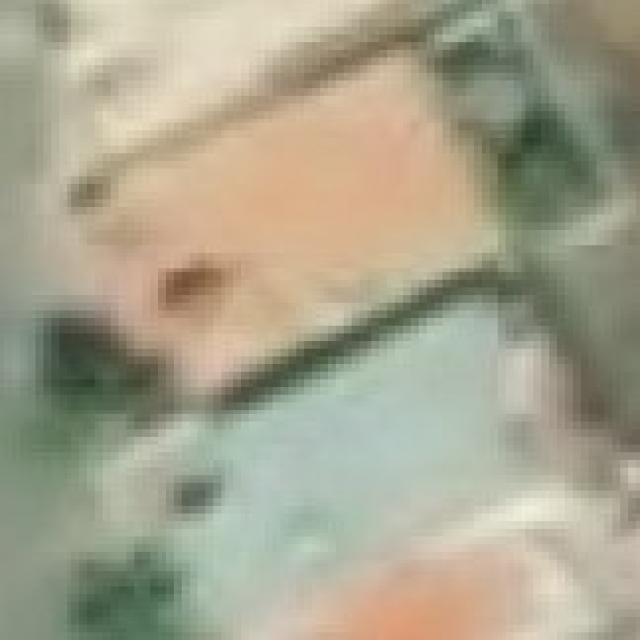Batiment: (93, 55, 477, 381)
